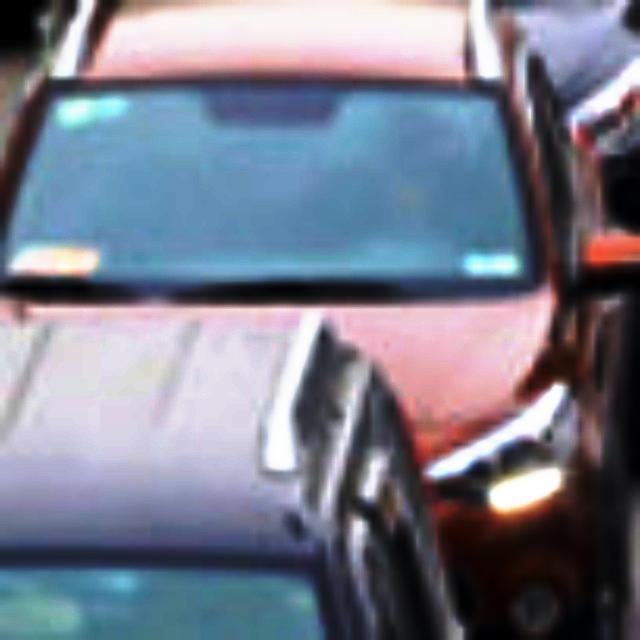Car: (2, 2, 634, 610), (0, 362, 401, 640)
